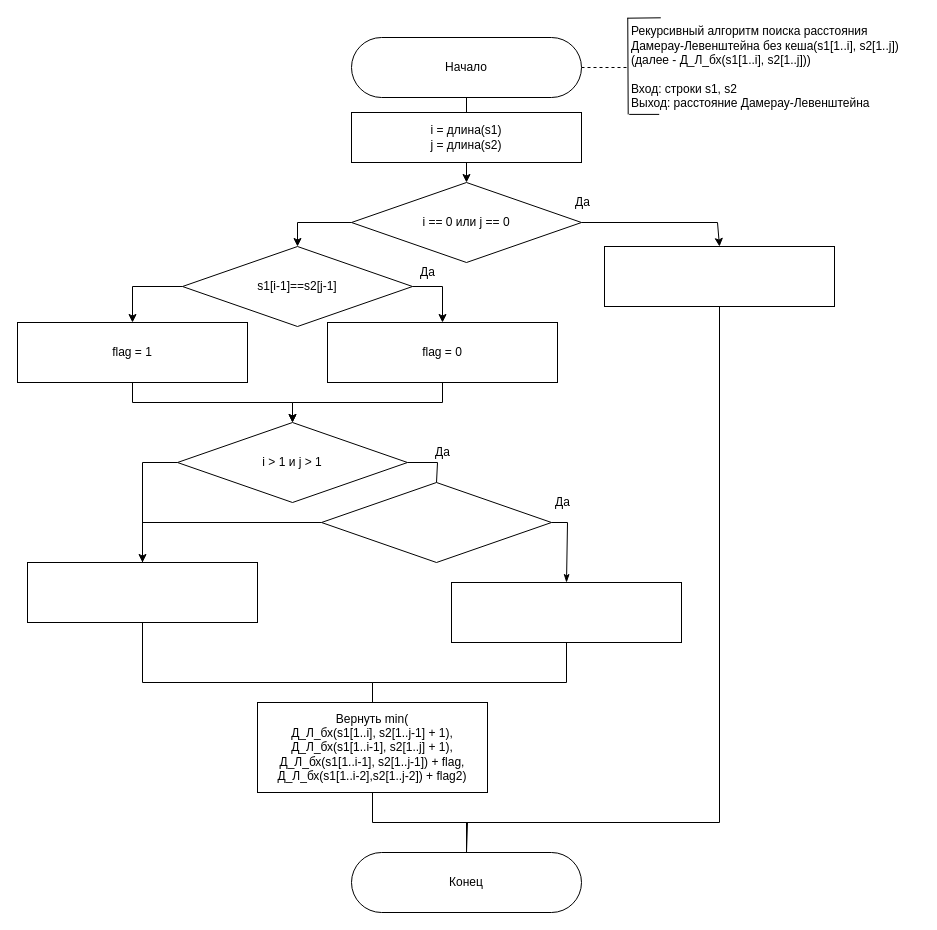
Some shapes in this 937 by 930 pixel diagram are drawn without their labels. Here are the shapes that lost their labels. From the top down, the box of each, then its label:
(604, 246, 834, 306): Вернуть |i - j|
(320, 482, 552, 562): s1[i-1]==s2[j-2] и s1[i-2]==s2[i-1]
(26, 562, 258, 622): flag2 = infinity
(450, 582, 682, 642): flag2 = 1
